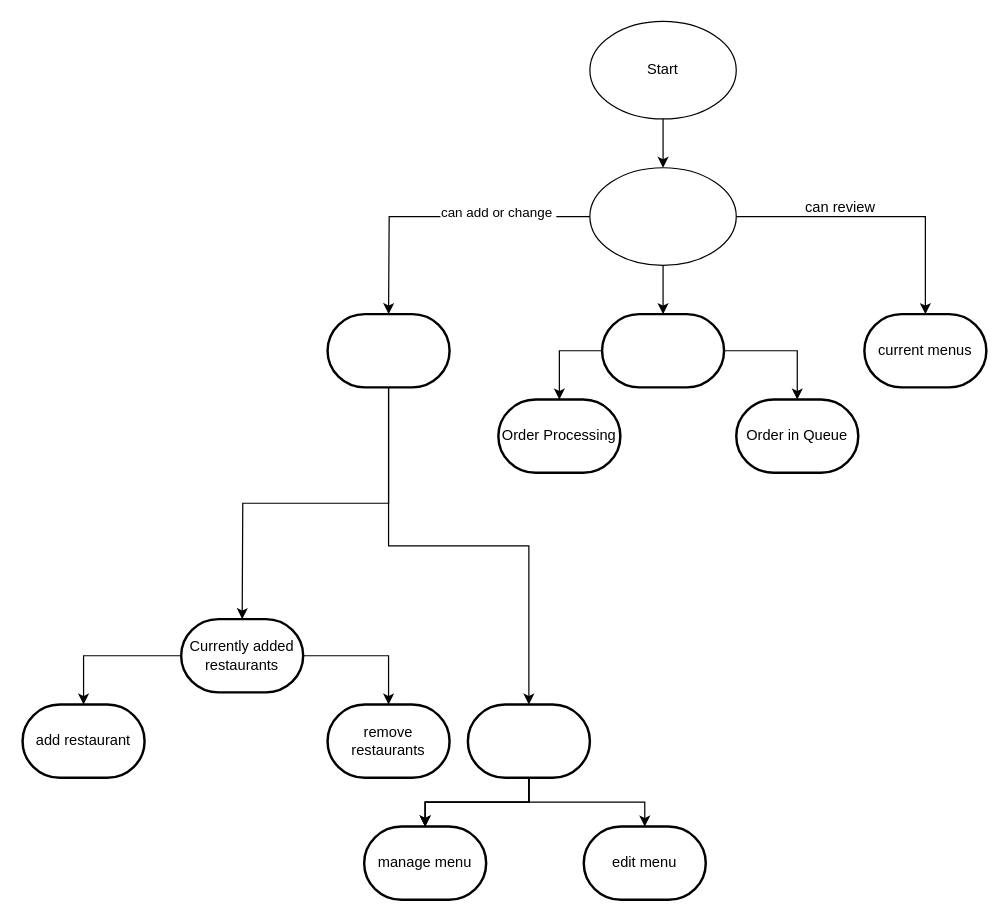
The diagram is 1008 pixels wide and 922 high, and some of its shapes have lost their labels. The shapes that lost their labels are listed below. From the top down, each one's centre as x and y in pixels, then its label:
At point 662,216: "Login".
At point 388,350: "Restaurants and menu".
At point 662,350: "current orders".
At point 528,740: "currently added menus".
